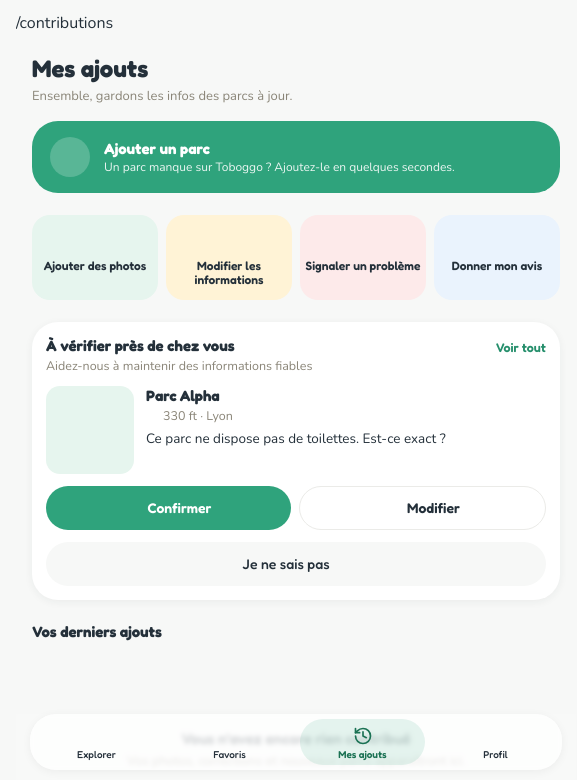
Test case: « À vérifier près de chez vous » — confirmation › confirmer une absence enregistre la confirmation « unavailable »
Expected: the text "Ce parc ne dispose pas de toilettes. Est-ce exact ?" is shown, top-left (146, 429), bottom-right (446, 448)
Click the button "Confirmer" at (168, 508), box top-left (46, 486), bottom-right (291, 530)
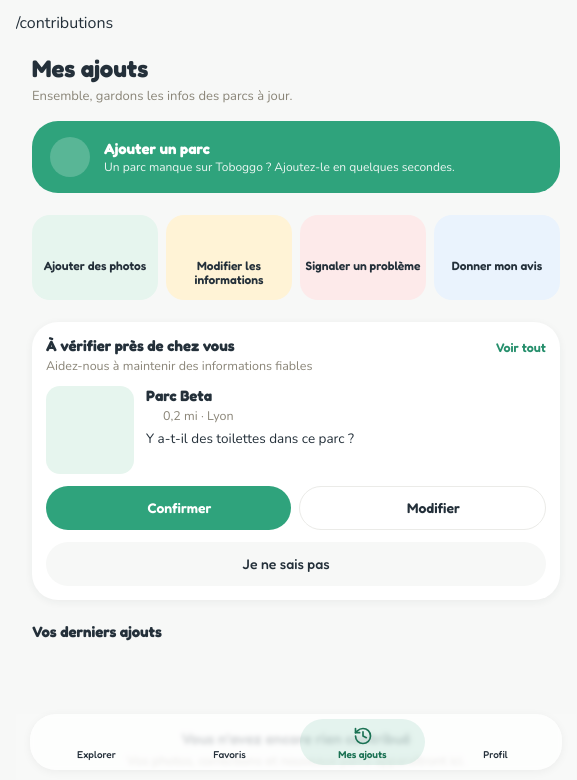
Result: the text "Parc Beta" is shown at top-left (146, 386), bottom-right (212, 405)
